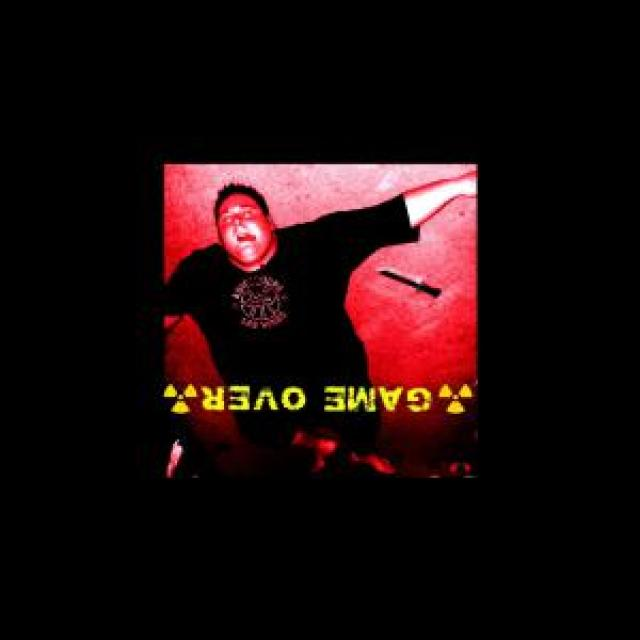knife: (367, 266, 449, 296)
